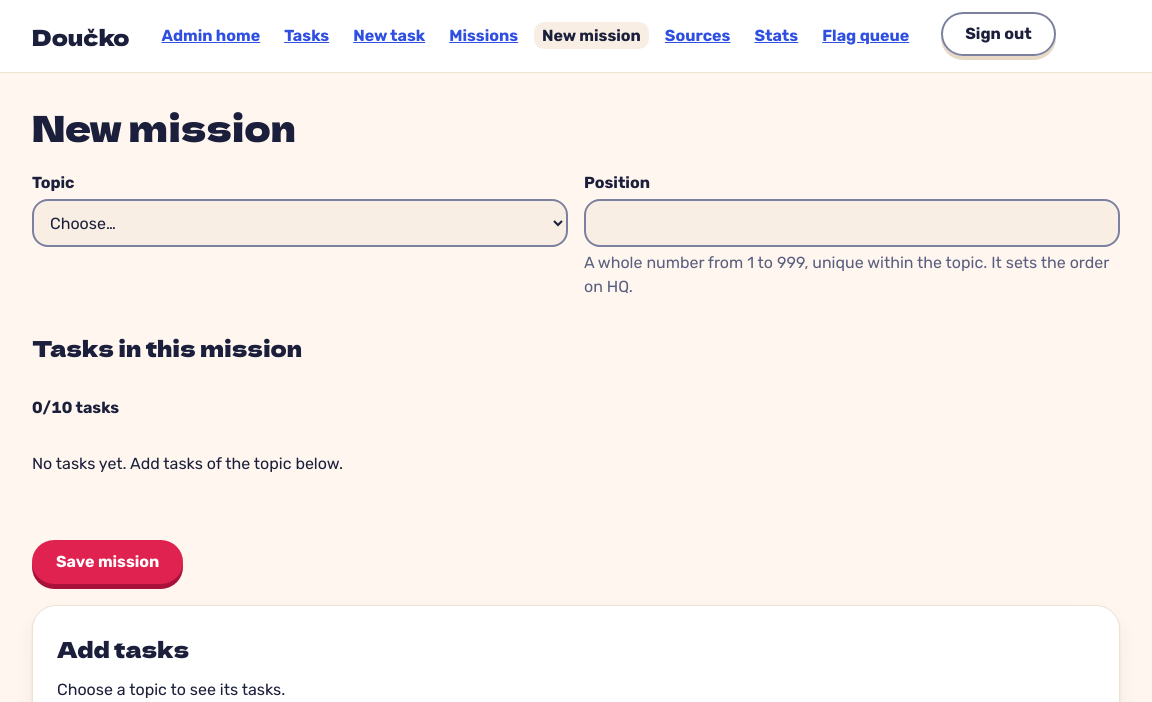
Test: new mission (FR-9) › refuses position abc inline before sending (Missing or duplicate position)
expect the heading "New mission" is shown: met, box [32,100,296,152]
Select "Desetinná čísla" in the dropdown labelled "Topic": (300, 223) [32,199,568,247]
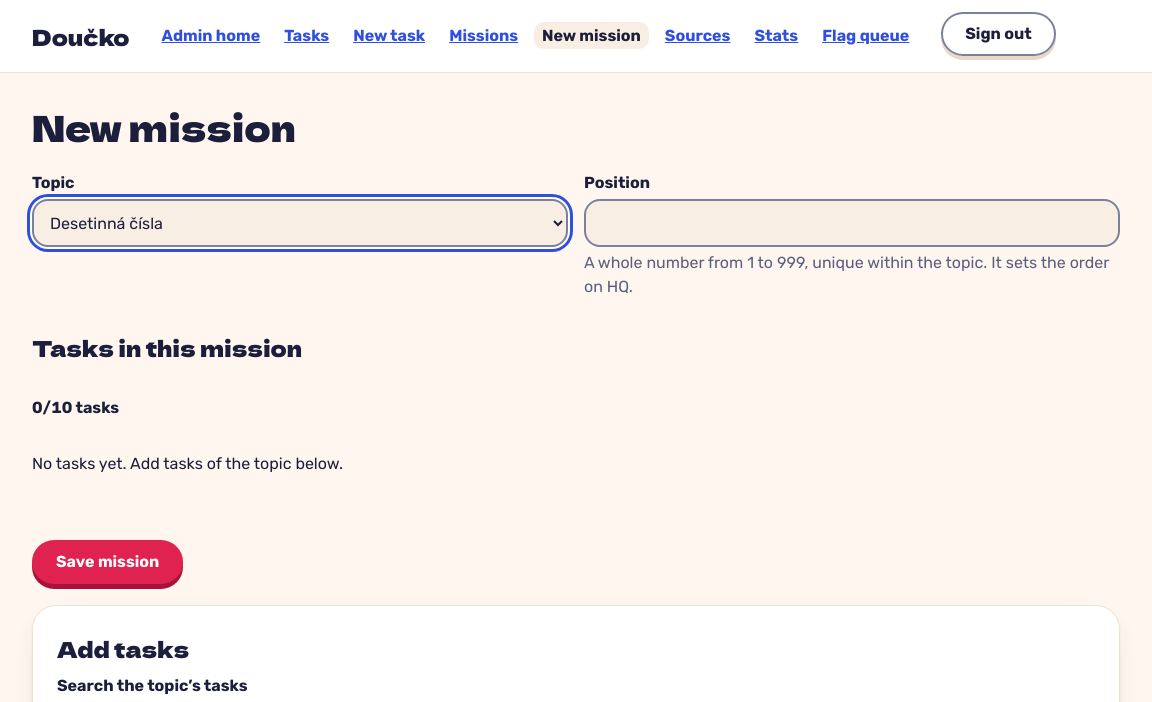
In the field labelled "Position": (852, 223) [584,199,1120,247], type "abc"
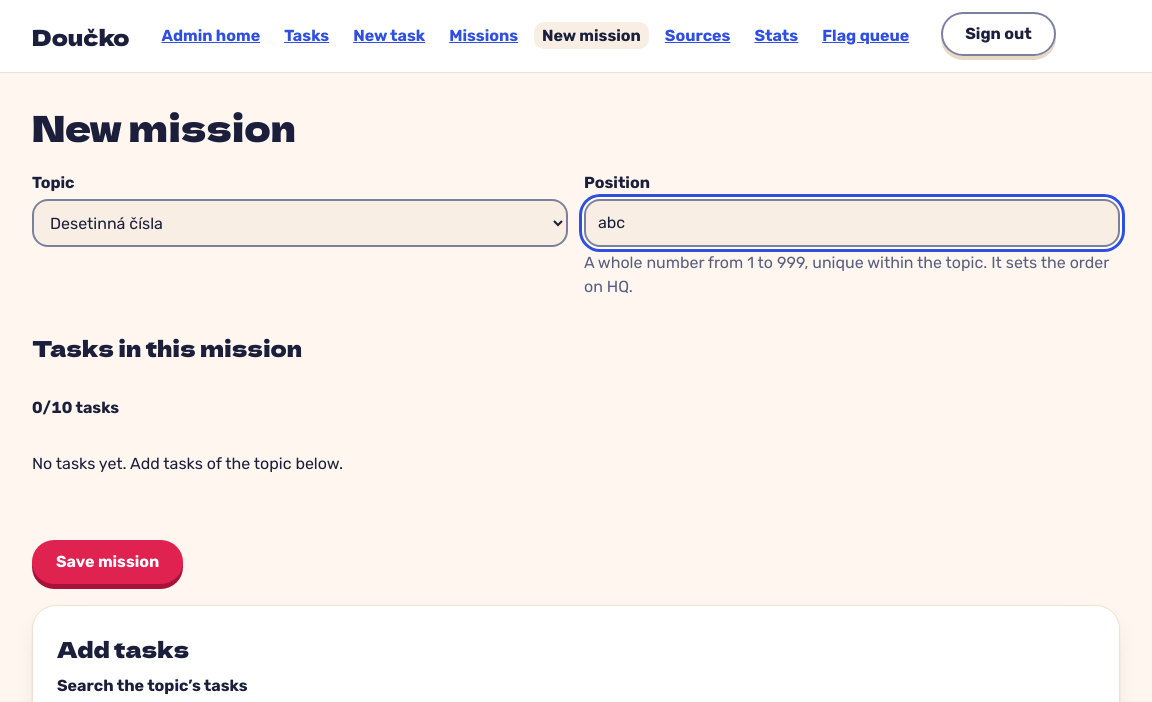
Click the button "Save mission": click(108, 562) [32,540,183,584]
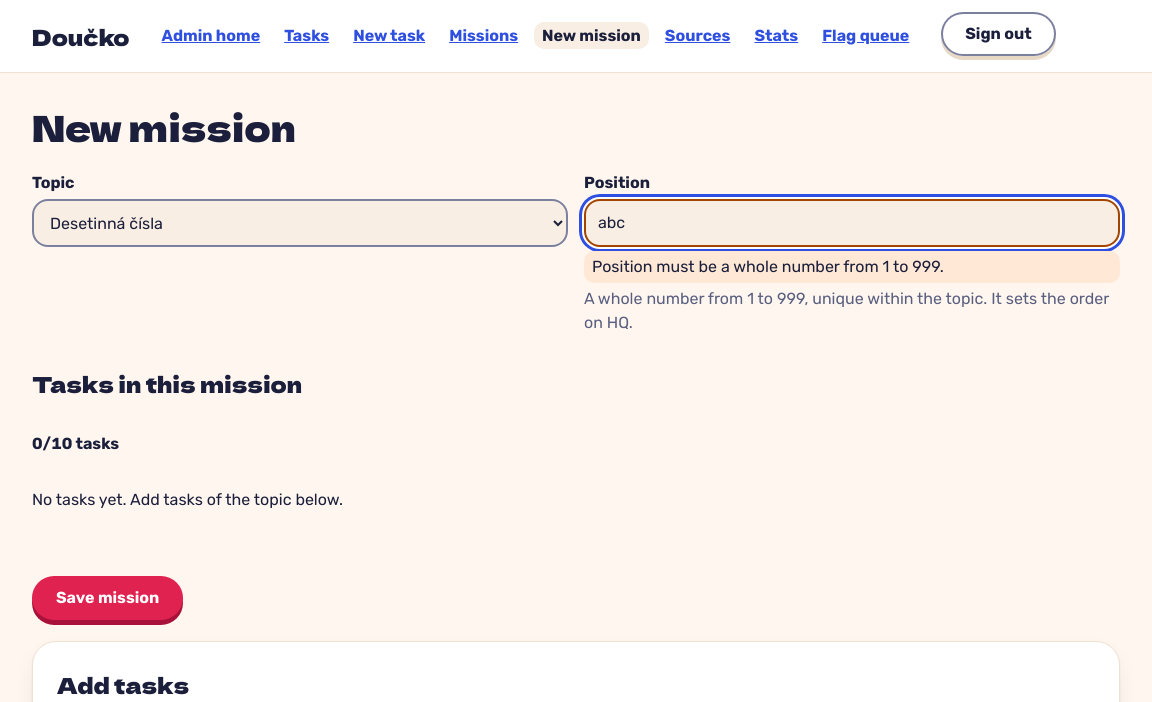
expect the text "Position must be a whole number from 1 to 999." is shown: met, box [584,251,1120,283]
